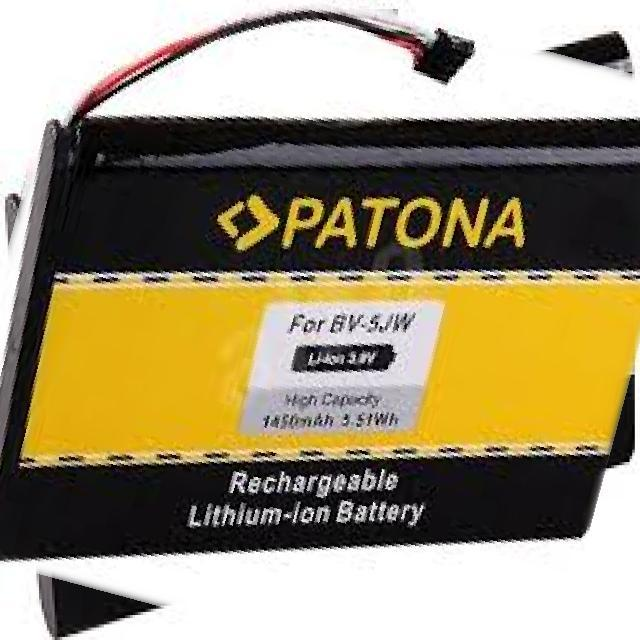Battery: (0, 0, 639, 561)
